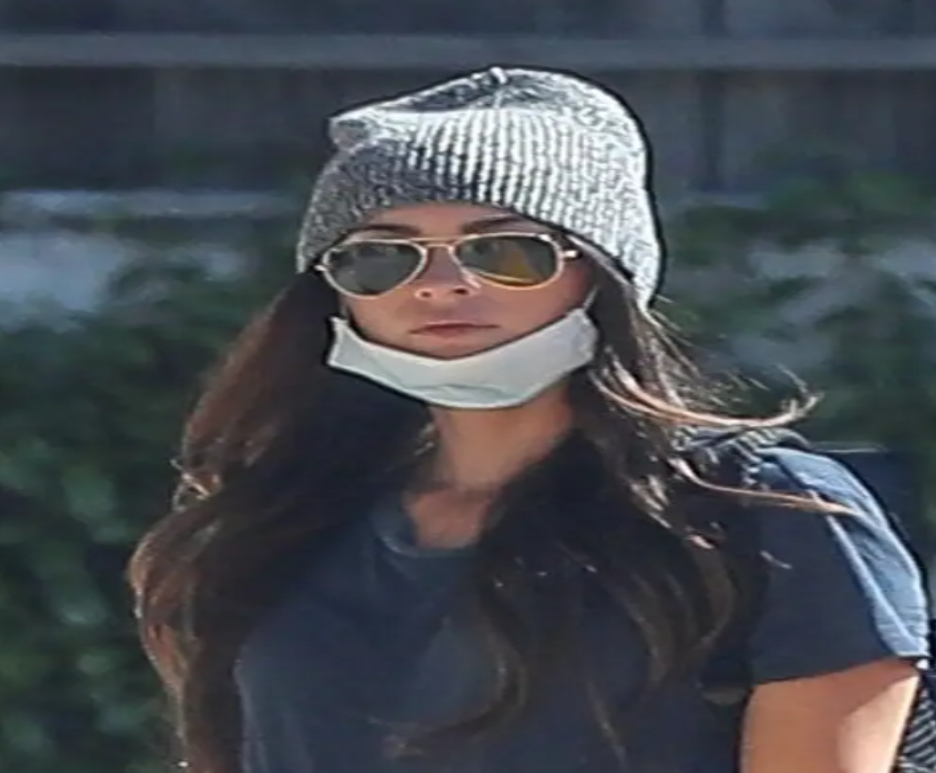mask_weared_incorrect: (297, 70, 660, 416)
